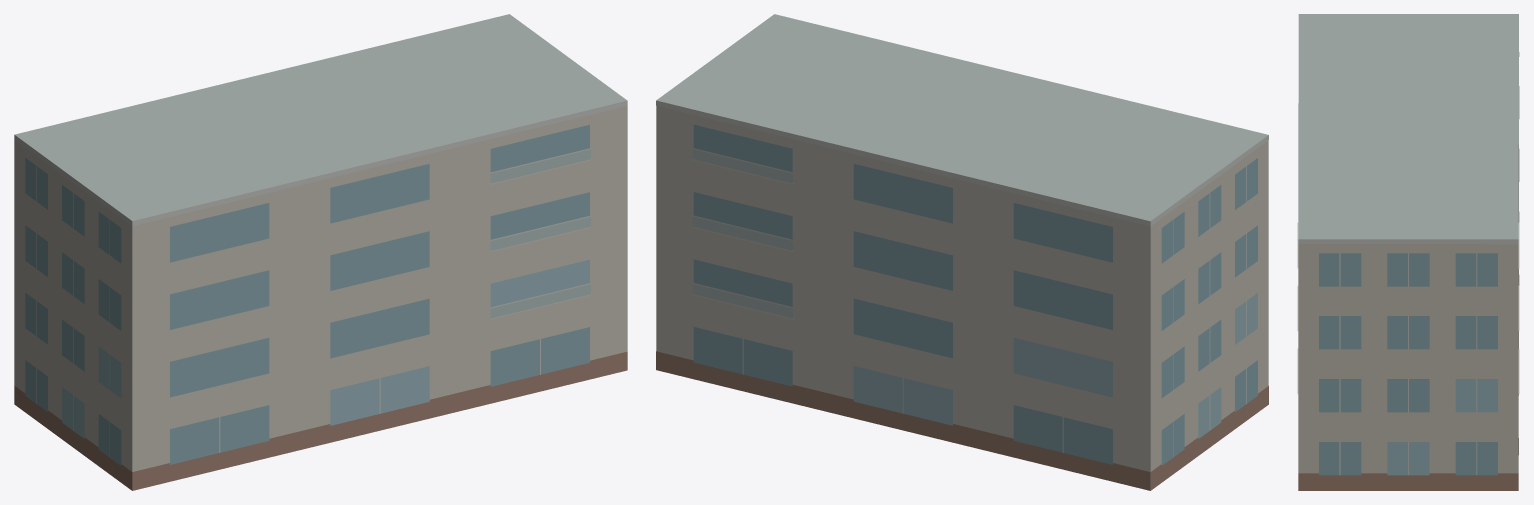
The model's file is survey-upis-32538572.glb.
3 renders of one model, left to right at view 1: azimuth 30°, elevation 25°; view 2: azimuth 150°, elevation 25°; view 3: azimuth 270°, elevation 25°, orthographic. The views are drawn at different scales.
Parts seen in each view (by area): view 1: survey-upis-32538572.tmp; view 2: survey-upis-32538572.tmp; view 3: survey-upis-32538572.tmp.
Boxes of the visible parts, x1,y1,x2,y2 form: survey-upis-32538572.tmp: (14, 14, 627, 490); survey-upis-32538572.tmp: (656, 14, 1268, 490); survey-upis-32538572.tmp: (1297, 14, 1519, 490).
Size of the model in its own units: 24.41 by 12.7 by 10.17.
